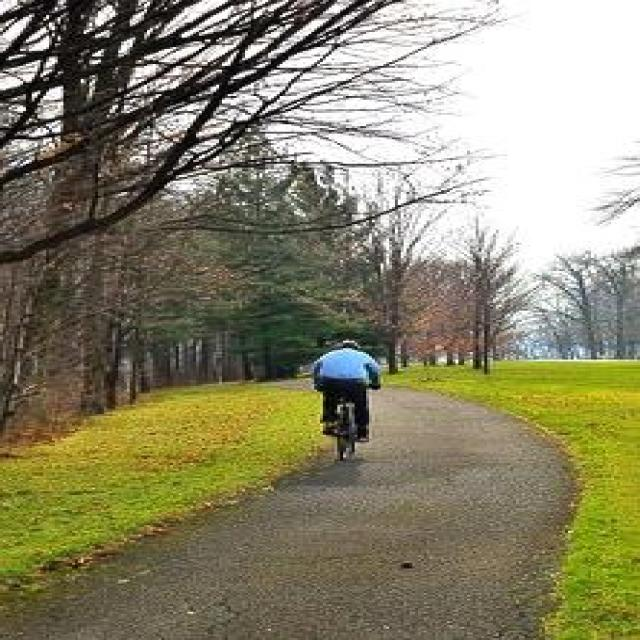bikerider: (291, 333, 386, 463)
